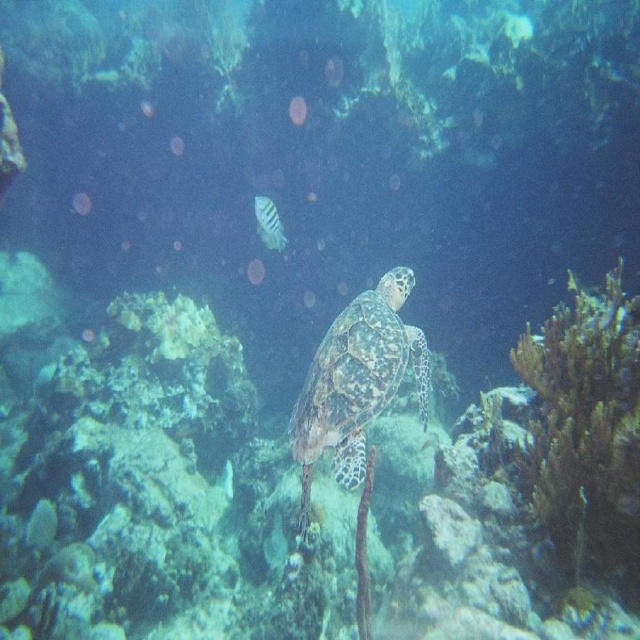Fish: (251, 198, 288, 252)
